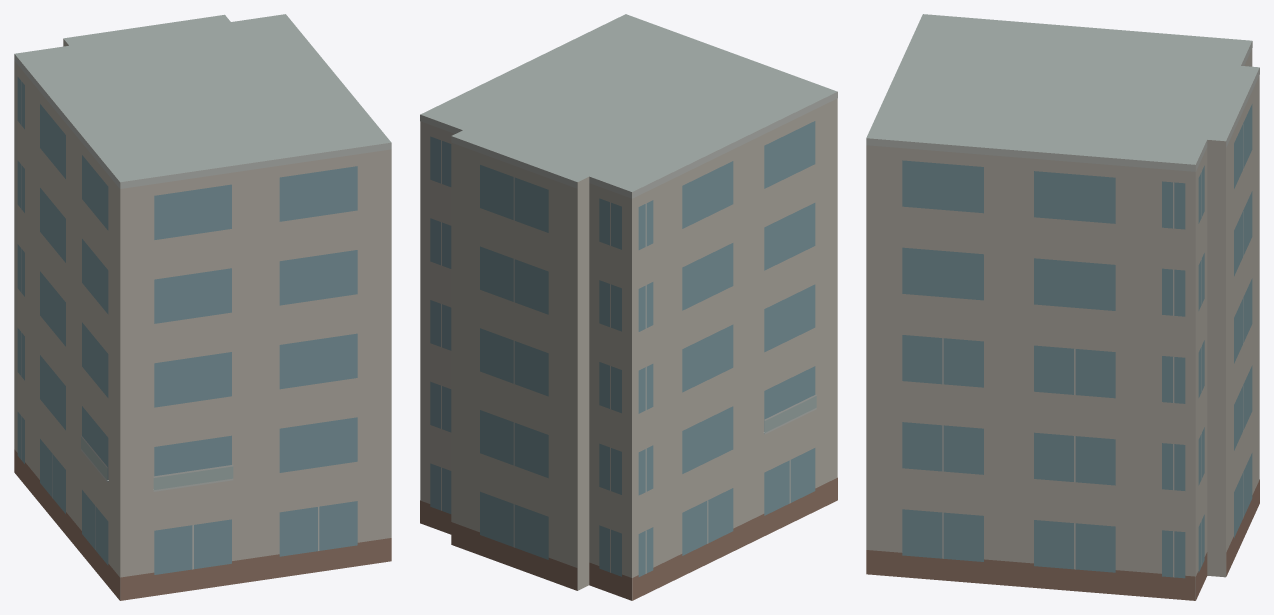
File: survey-upis-33025427.glb
3 renders of one model, left to right at view 1: azimuth 30°, elevation 25°; view 2: azimuth 150°, elevation 25°; view 3: azimuth 270°, elevation 25°, orthographic. The views are drawn at different scales.
Visible parts, largest first — view 1: survey-upis-33025427.tmp; view 2: survey-upis-33025427.tmp; view 3: survey-upis-33025427.tmp.
Part boxes in pixels (<box>): survey-upis-33025427.tmp: <box>14,14,391,600</box>; survey-upis-33025427.tmp: <box>420,14,837,600</box>; survey-upis-33025427.tmp: <box>866,14,1259,600</box>.
Bounding box in the file's own units: 11.21 × 15.1 × 12.36.
